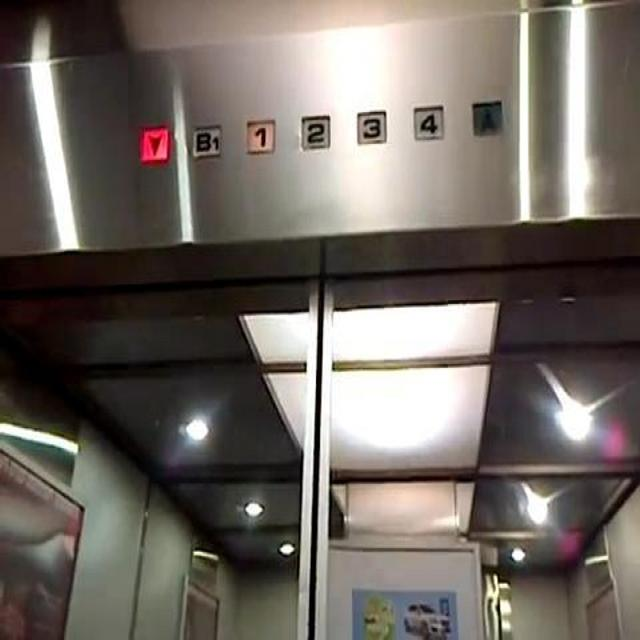1: (240, 112, 277, 155)
2: (295, 109, 331, 151)
3: (352, 106, 388, 146)
4: (409, 99, 446, 140)
B1: (187, 120, 222, 160)
down: (135, 123, 170, 164)
up: (466, 95, 506, 137)
